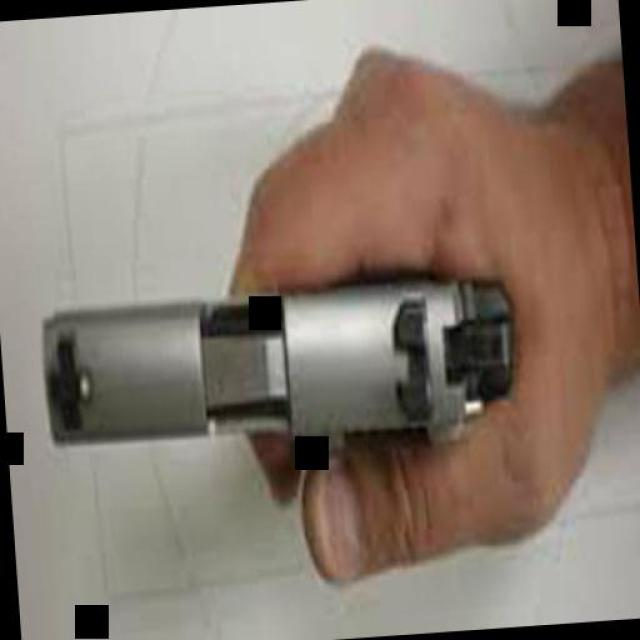gun: (29, 212, 531, 482)
